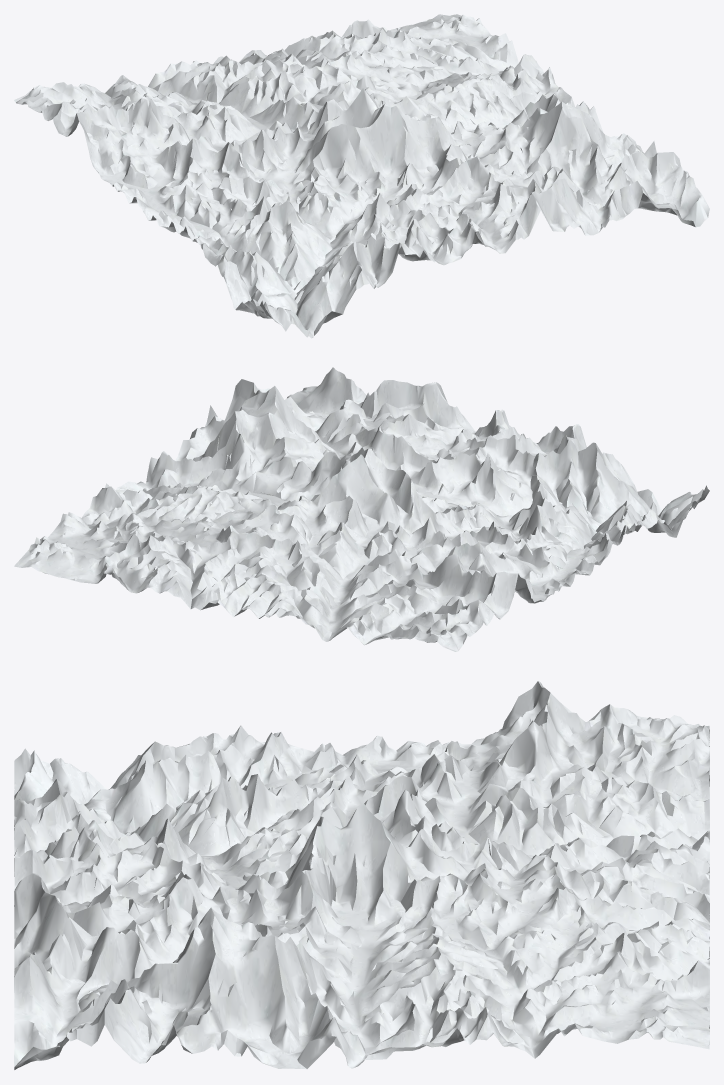
Rendered from snowy_mountains.glb.
3 views of the same model, one above another, from view 1: azimuth 30°, elevation 25°; view 2: azimuth 150°, elevation 25°; view 3: azimuth 270°, elevation 25° (orthographic). The views are drawn at different scales.
Visible parts, largest first — view 1: Object_4; view 2: Object_4; view 3: Object_4.
Part boxes in pixels (x1,y1,x2,y2): Object_4: (14, 14, 709, 338); Object_4: (14, 367, 709, 651); Object_4: (14, 680, 709, 1069).
Size of what is drawn, in the model's own units: 1 by 0.2422 by 0.9996.
Materials: 1 (1 with a texture image).
